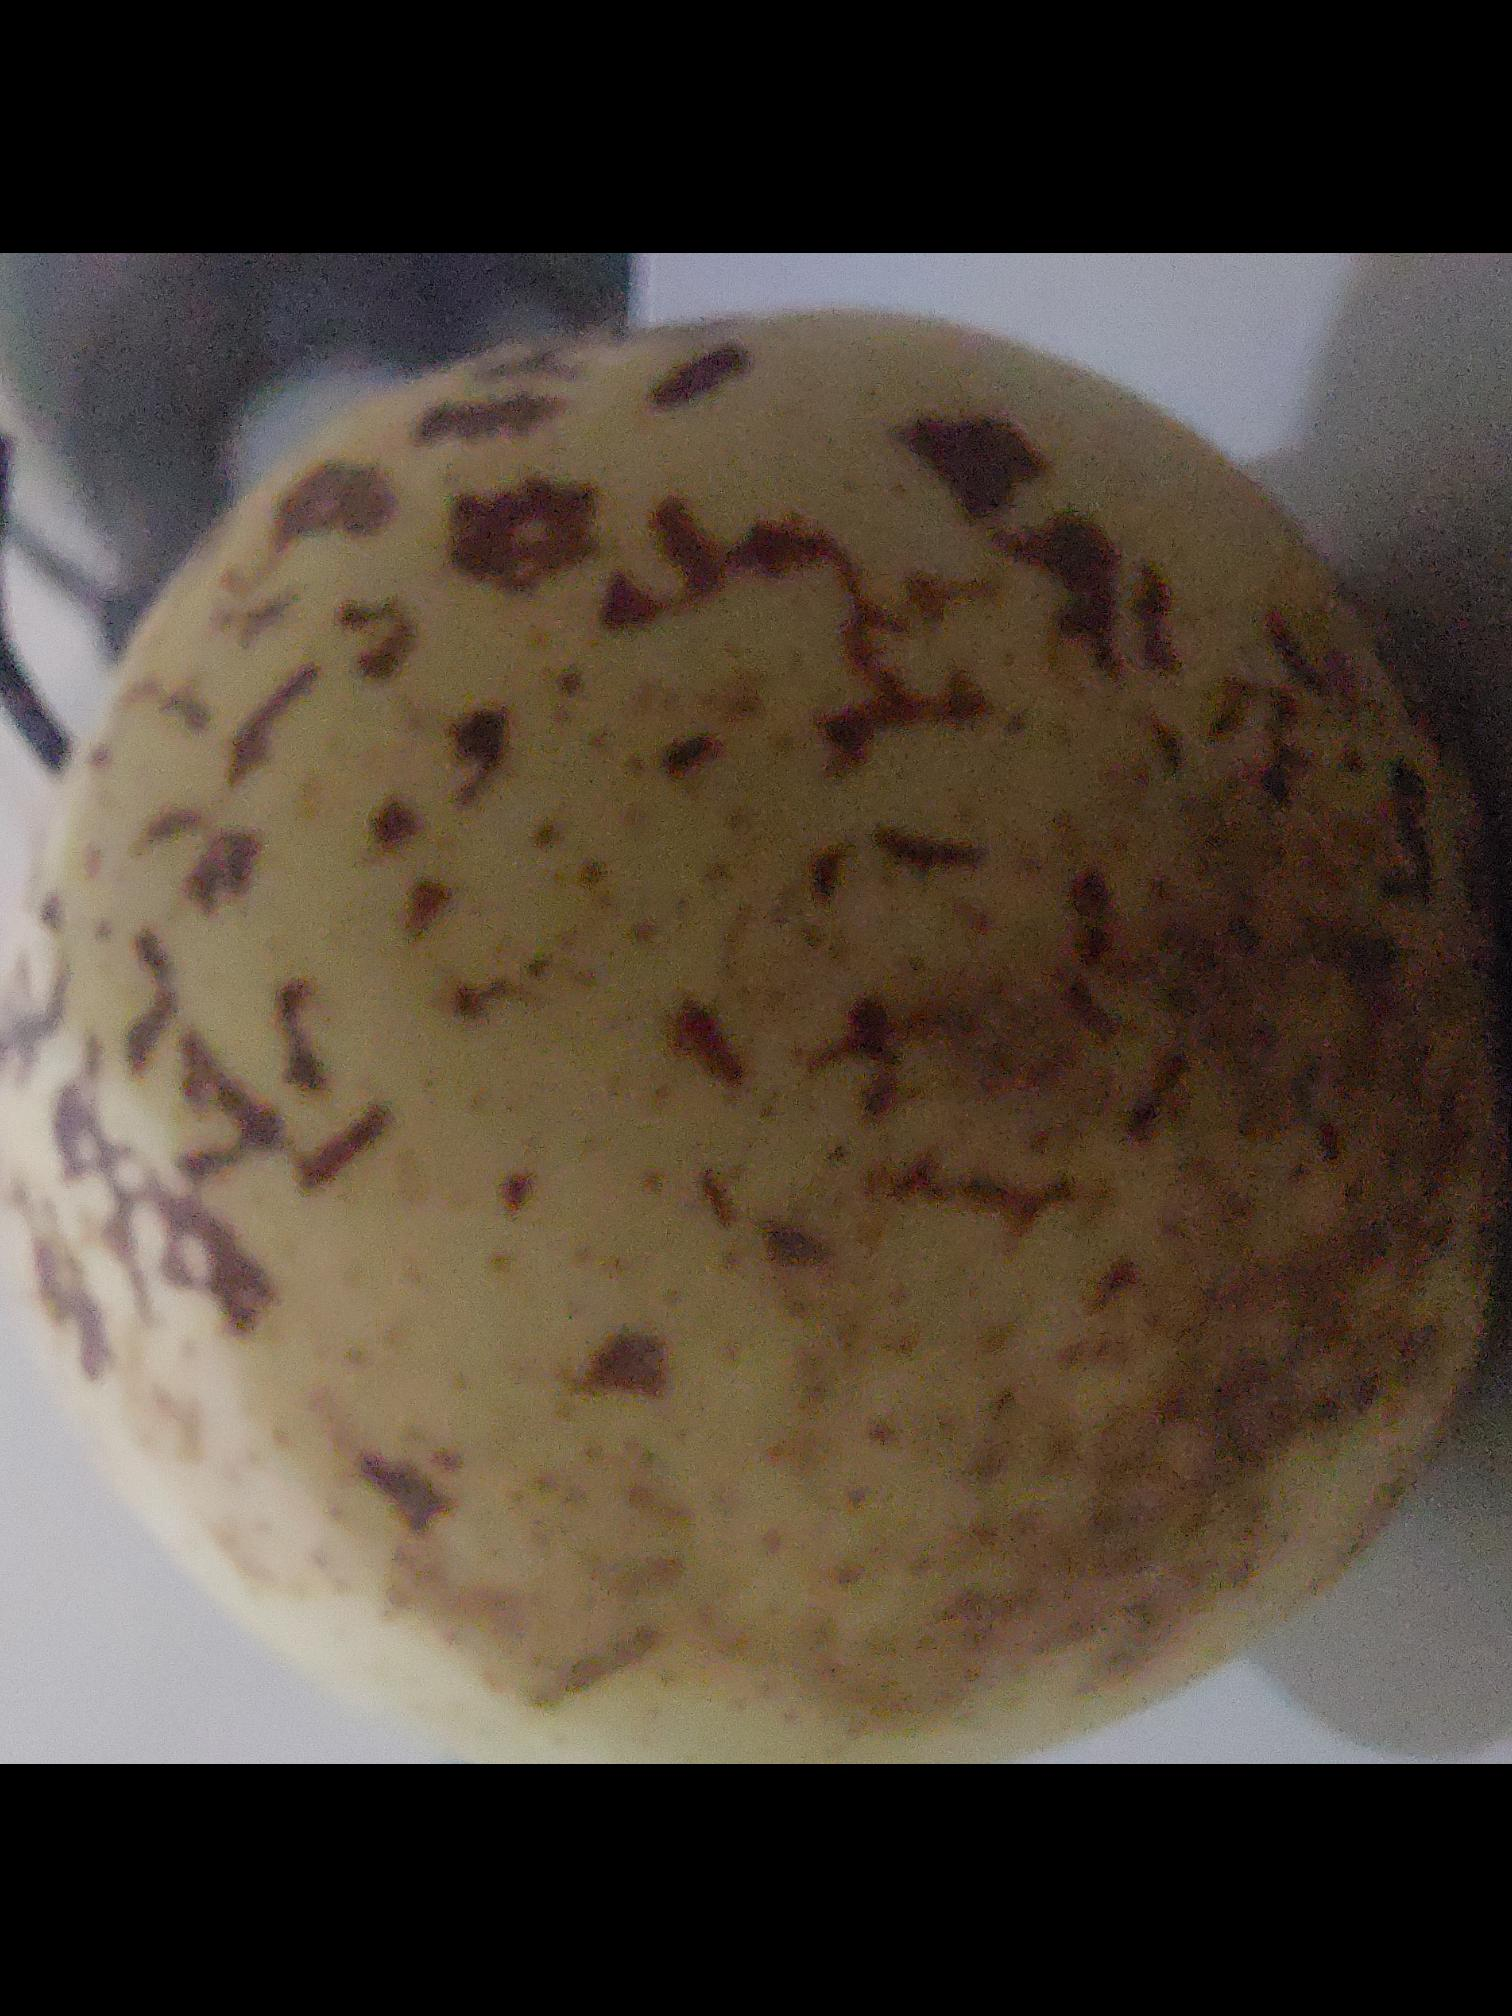Bad Pear: (0, 310, 1502, 1764)
